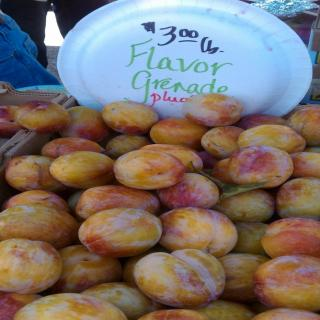Peach: (0, 92, 319, 320), (51, 149, 115, 185), (0, 105, 26, 138)
